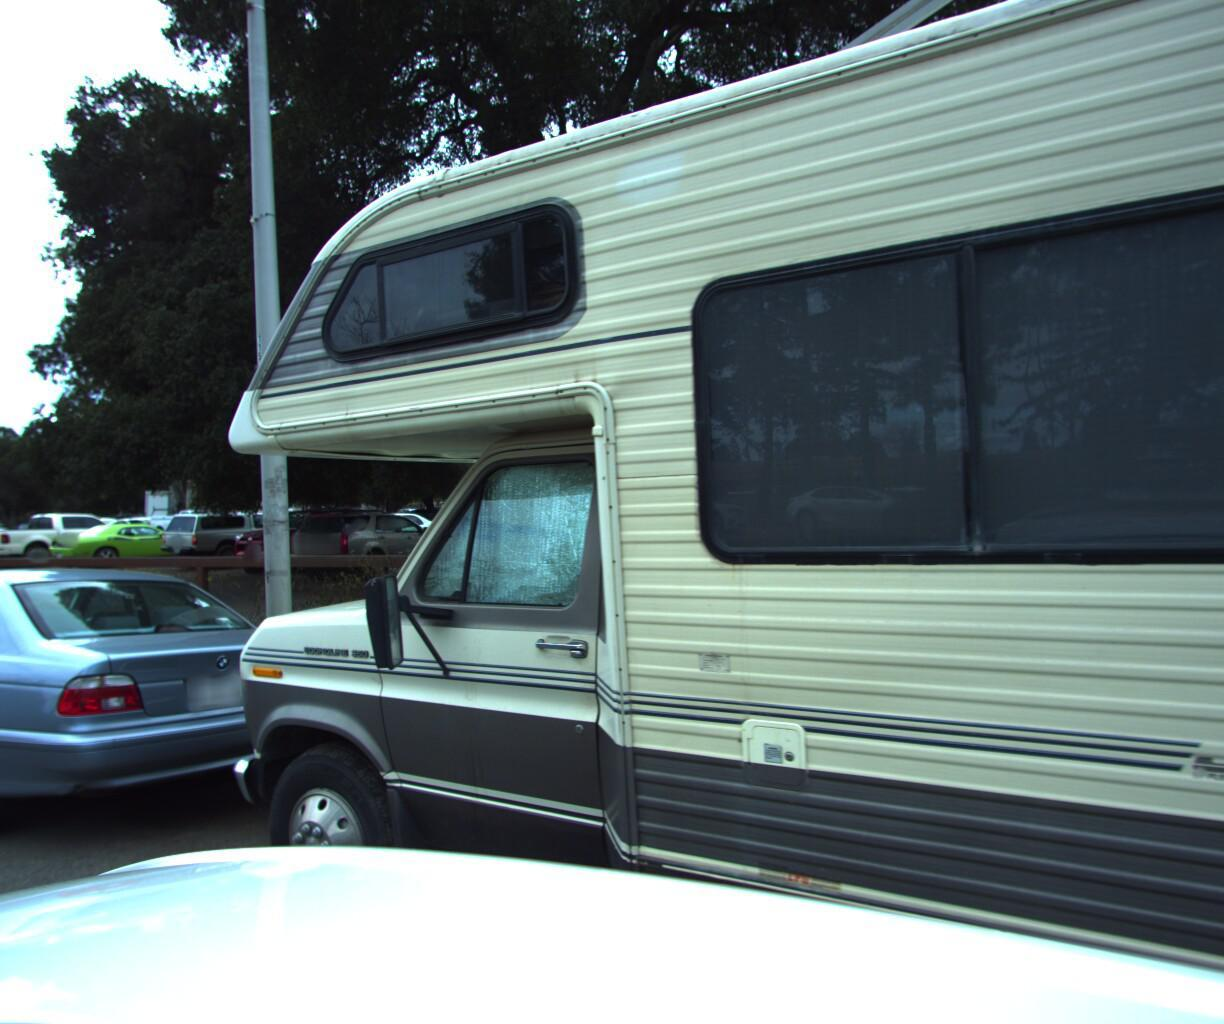car: (0, 552, 356, 915)
